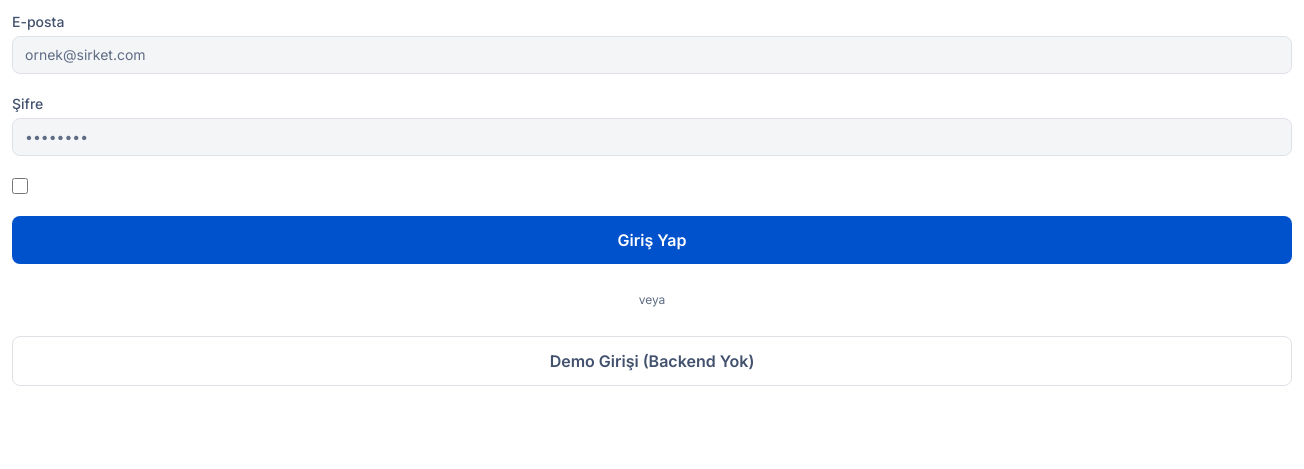
Test: LoginForm › shows server error on failed login
Type "test@example.com" into the field labelled "E-posta". click: (652, 55)
box: [12,36,1292,74]
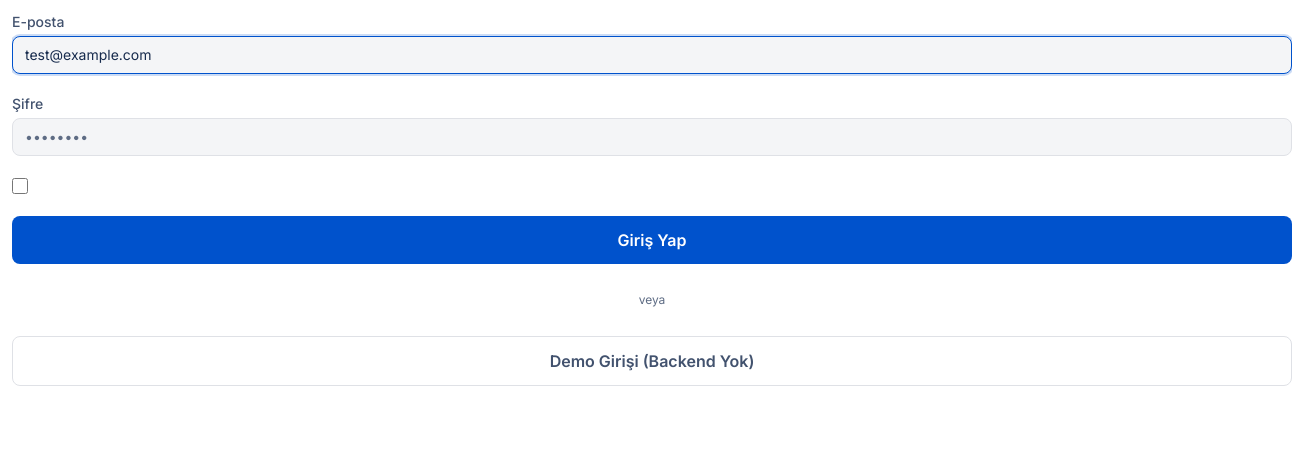
Type "wrongpassword" into the password field labelled "Şifre". click: (652, 137)
box: [12,118,1292,156]
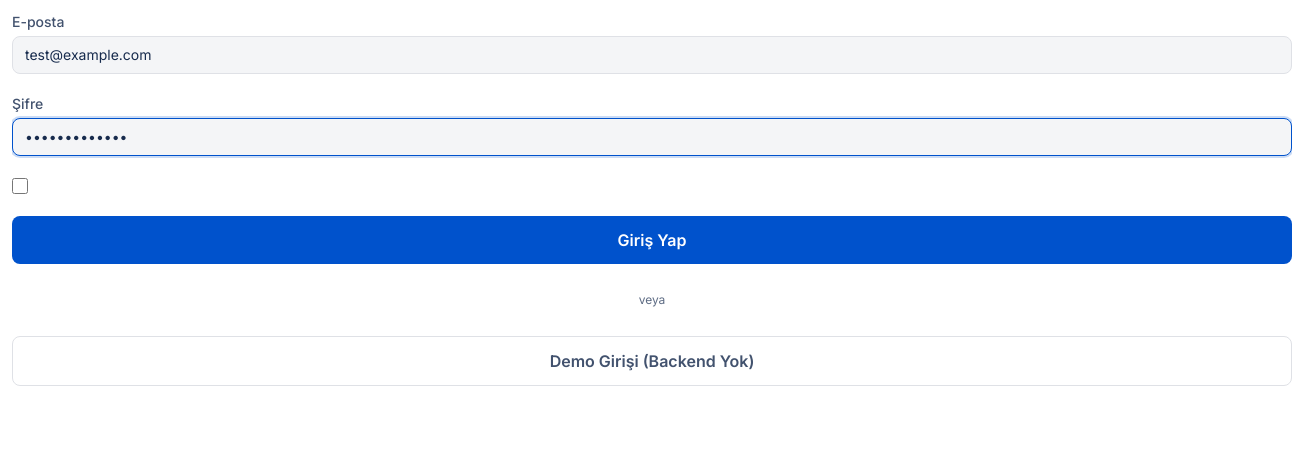
Click the button "Giriş Yap". click: (652, 240)
box: [12,216,1292,264]
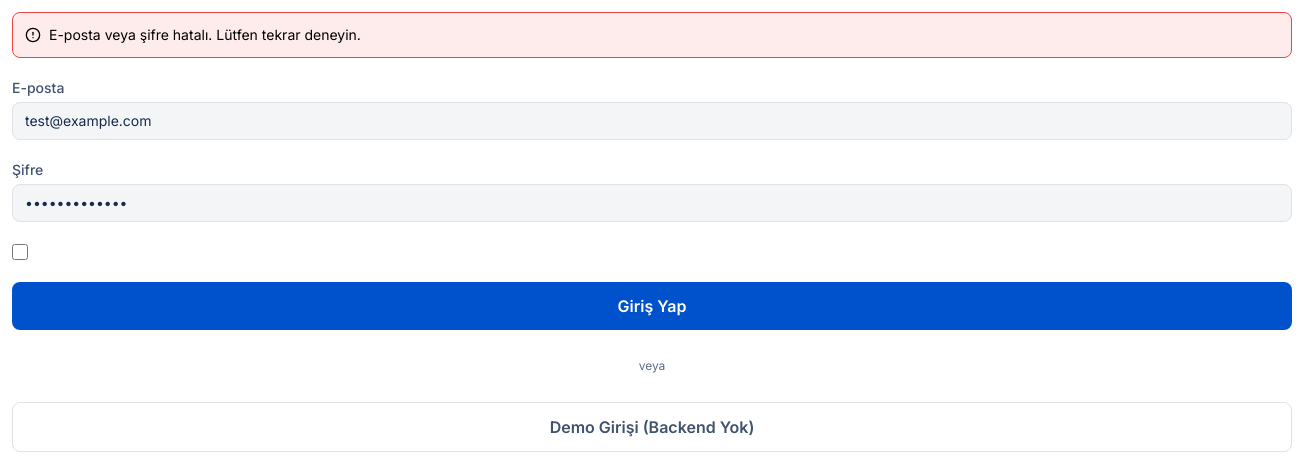
Result: the text "E-posta veya şifre hatalı. Lütfen tekrar deneyin." is shown at [49,25,361,45]
